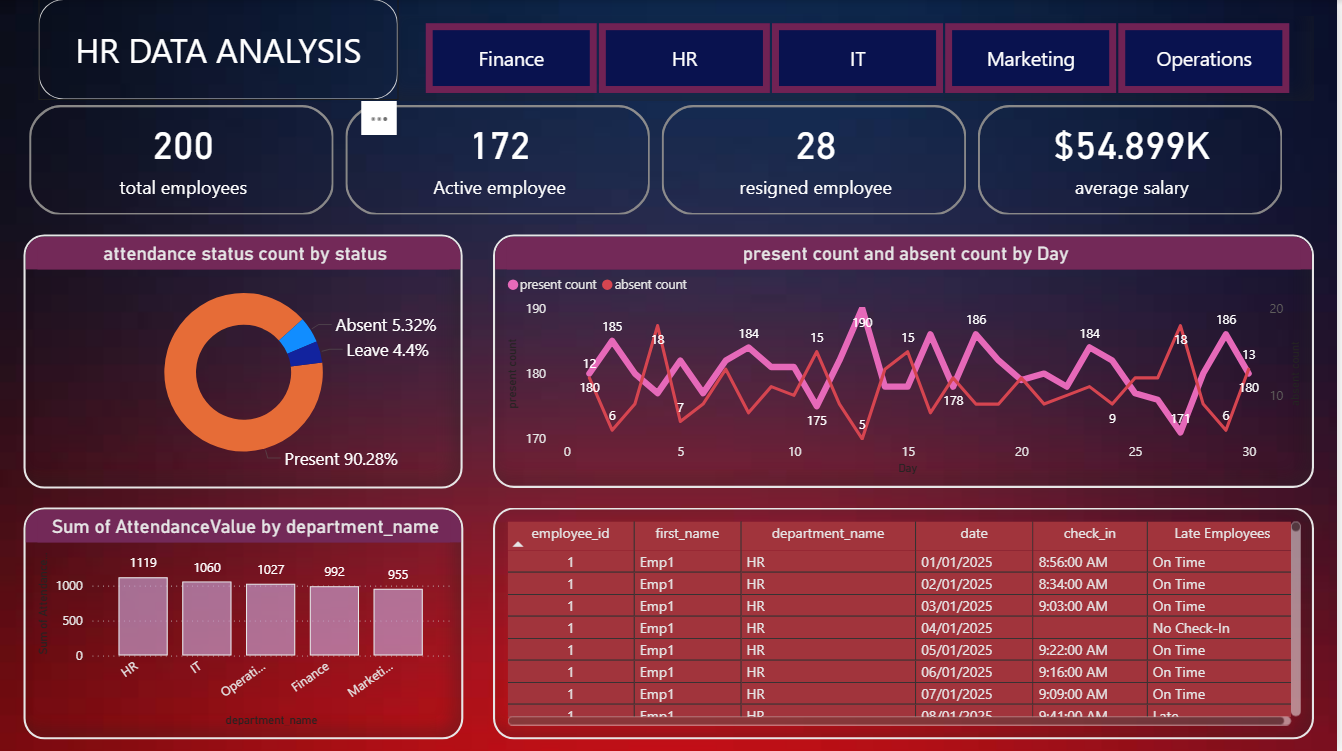

What the dashboard file says about the page in this screenshot:
{"tool":"powerbi","page":{"name":"Page 2","canvas":[1280,720],"ordinal":1},"visuals":[{"type":"slicer","fields":{"Values":["department.department_name"]},"box":[381.7,15.1,875,81.3],"z":0},{"type":"cardVisual","fields":{"Data":["employee_data.total employees","employee_data.Active employee","employee_data.resigned employee","employee_data.average salary"]},"box":[24.6,96.4,1207.6,115.3],"z":1000},{"type":"lineChart","fields":{"Y":["employee_data.present count"],"Y2":["employee_data.absent count"],"Category":["attendence.date.Variation.Date Hierarchy.Day"]},"box":[472.4,224.9,784.3,241.9],"z":2000},{"type":"tableEx","fields":{"Values":["employee_data.employee_id","employee_data.first_name","department.department_name","attendence.date","attendence.check_in","attendence.Late Employees"]},"box":[472.4,485.7,784.3,221.1],"z":3000},{"type":"donutChart","fields":{"Category":["attendence.status"],"Y":["attendence.attendance status count"]},"box":[24.4,224.5,419.6,242.4],"z":3001},{"type":"clusteredColumnChart","fields":{"Y":["Sum(attendence.AttendanceValue)"],"Category":["department.department_name"]},"box":[25,486,420,221],"z":3002},{"type":"shape","box":[39,0,343.2,96],"z":3003}]}

Visuals, with their boxes in screenshot pixels (x1, y1, x2, y2), scaled from the page's 1280x720 canvas onto the 1342x751 screenshot:
slicer - department.department_name: region(400, 16, 1318, 101)
cardVisual - employee_data.total employees x employee_data.Active employee: region(26, 101, 1292, 221)
lineChart - employee_data.present count x employee_data.absent count: region(495, 235, 1318, 487)
tableEx - employee_data.employee_id x employee_data.first_name: region(495, 507, 1318, 737)
donutChart - attendence.status x attendence.attendance status count: region(26, 234, 466, 487)
clusteredColumnChart - Sum(attendence.AttendanceValue) x department.department_name: region(26, 507, 467, 737)
shape: region(41, 0, 401, 100)
